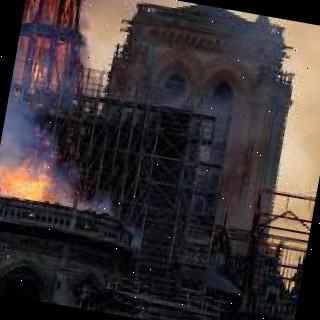fire: (42, 148, 157, 248), (10, 0, 73, 94), (0, 153, 57, 215)
